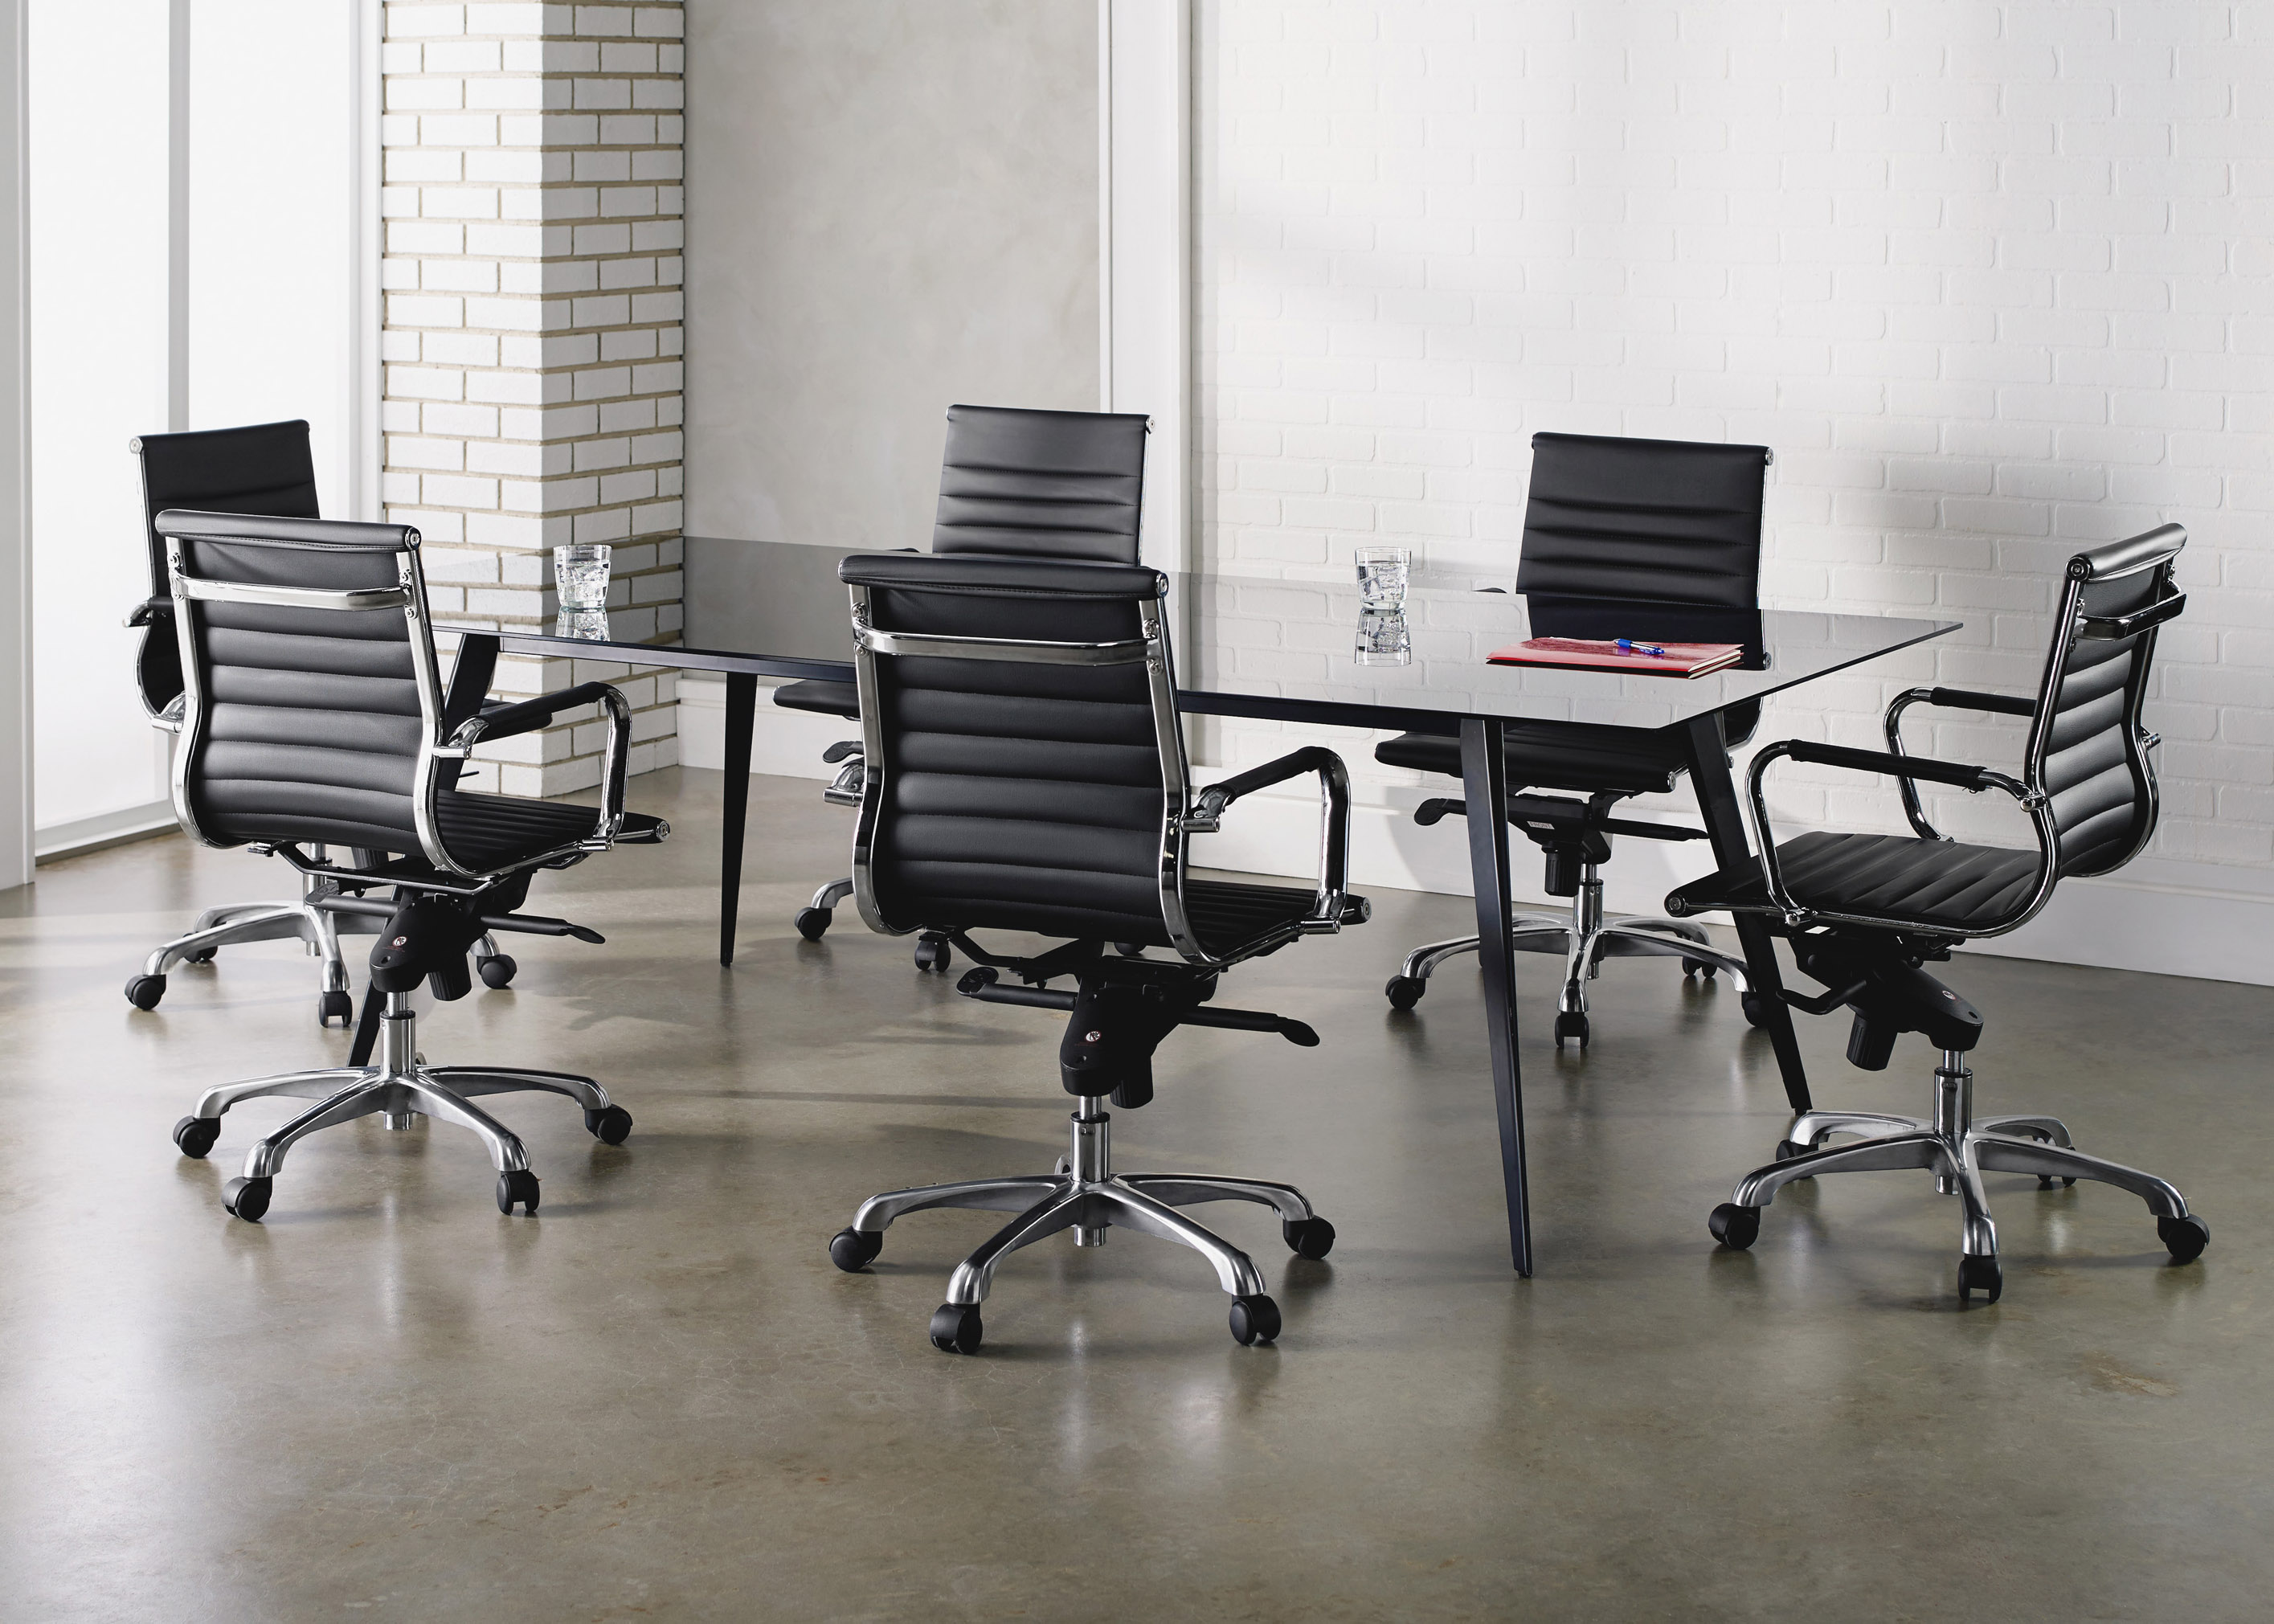conference_table: (420, 530, 1962, 1276)
